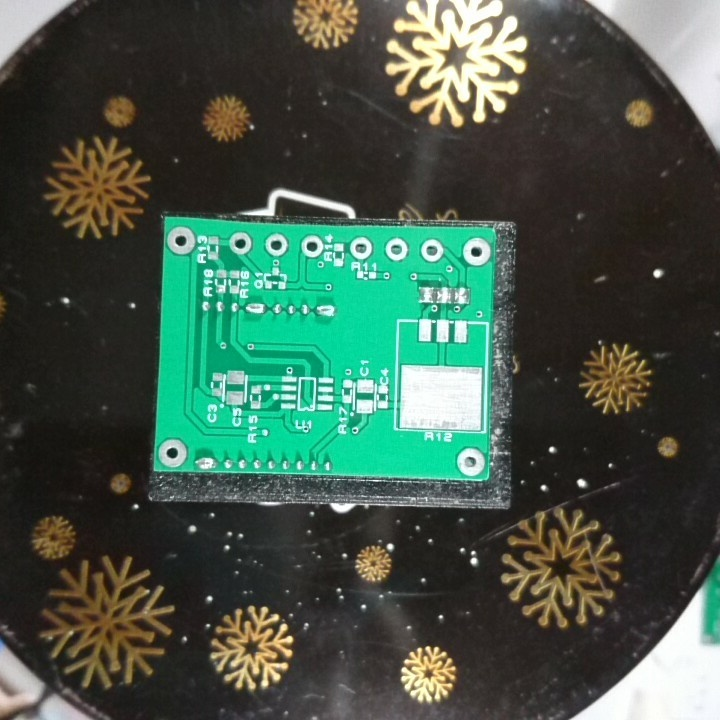F: (157, 435, 190, 469), (165, 224, 197, 258), (455, 446, 486, 479), (460, 237, 493, 266), (347, 234, 377, 263), (419, 236, 447, 264), (383, 235, 411, 263), (227, 230, 255, 257), (262, 230, 288, 259), (298, 233, 325, 260)
P: (191, 453, 222, 471), (312, 300, 337, 321), (242, 297, 267, 318)
